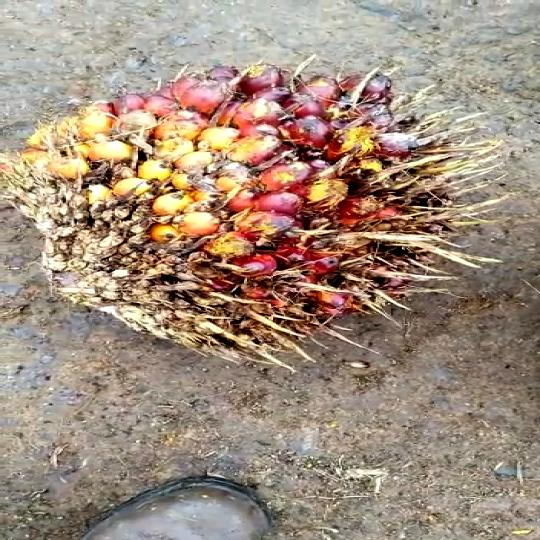masak: (0, 64, 453, 365)
